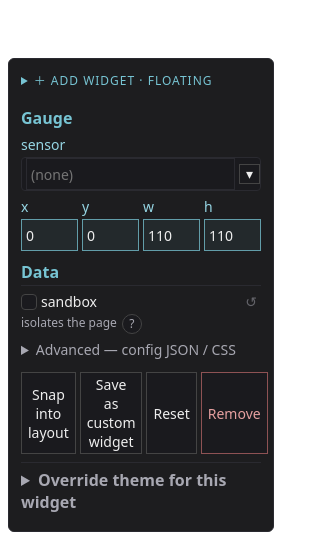
Scenario: Inspector config-field rendering (per ConfigField kind) › shows the short help inline and the long details behind a "?" (tooltip + click to expand)
The width and height of the screenshot is (320, 540).
Expected: the text "isolates the page ?" is shown, [21,314,142,331]
Click the button named "More about this field".
click(132, 324)  # box [122,314,142,334]
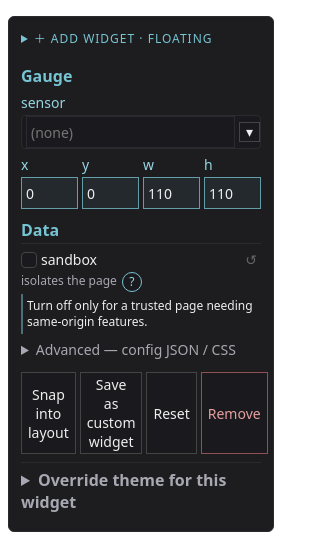
Now the button named "More about this field" is expanded, box [122,272,142,292]
Now the text with class "field-details-text" shows "trusted page", box [27,297,253,330]
